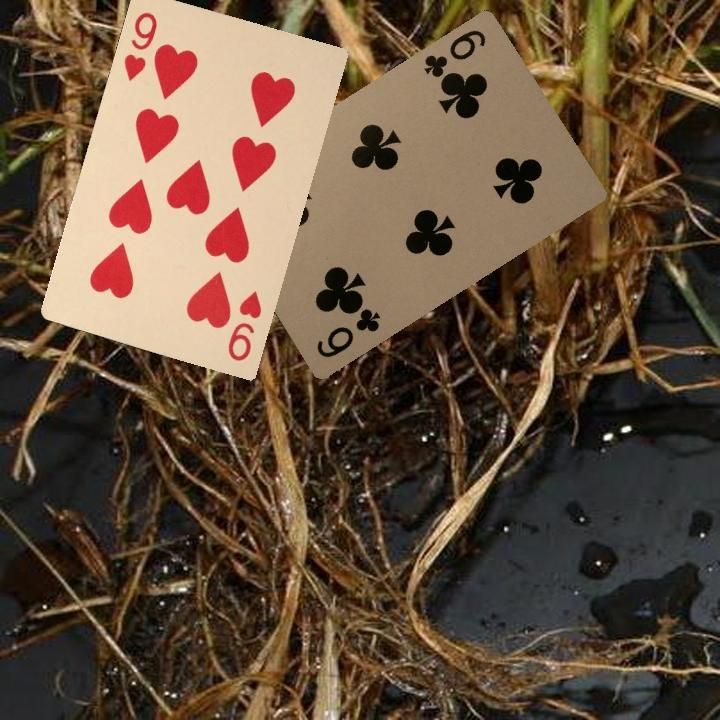6c: (420, 24, 489, 88), (312, 304, 383, 361)
9h: (223, 287, 264, 364), (119, 8, 160, 83)
